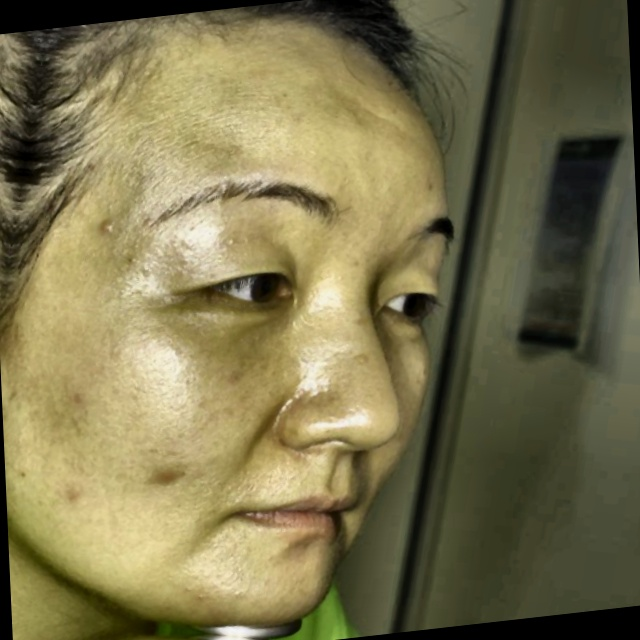comedone: (151, 454, 192, 505), (82, 207, 122, 251), (52, 479, 92, 506)
